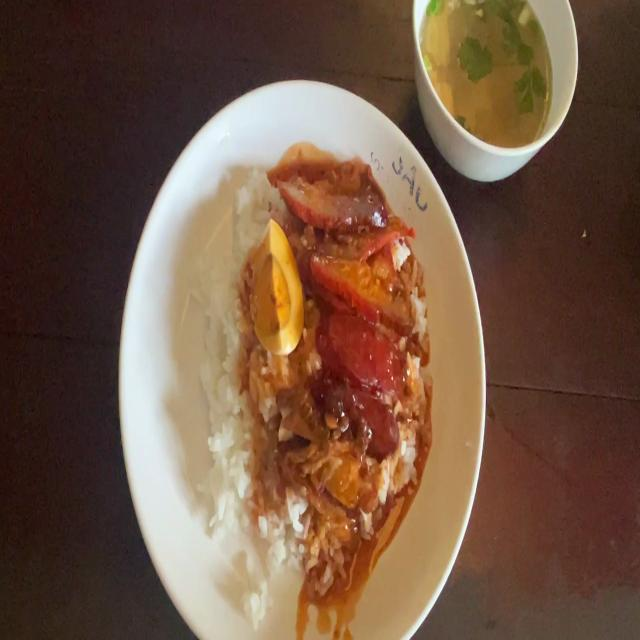red_pork_and_crispy_pork: (254, 222, 302, 346)
stir_fried_basil: (321, 334, 403, 440)
